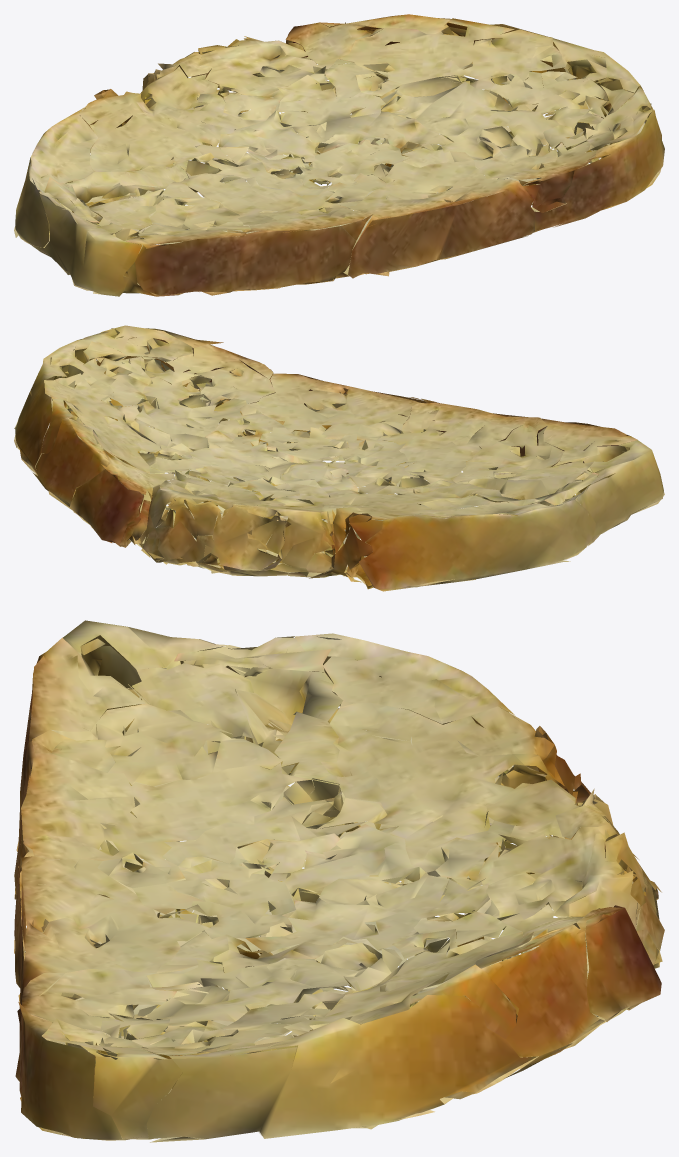
Rendered from coci_sliced_bread.glb.
3 renders of one model, top to bottom at view 1: azimuth 30°, elevation 25°; view 2: azimuth 150°, elevation 25°; view 3: azimuth 270°, elevation 25°, orthographic. The views are drawn at different scales.
Visible parts, largest first — view 1: Object_2; view 2: Object_2; view 3: Object_2.
Part boxes in pixels (x1=…): Object_2: x1=14, y1=14, x2=664, y2=296; Object_2: x1=14, y1=325, x2=664, y2=591; Object_2: x1=14, y1=620, x2=664, y2=1142.
Bounding box in the file's own units: 0.2509 × 0.0381 × 0.1516.
1 material, 1 textured.
